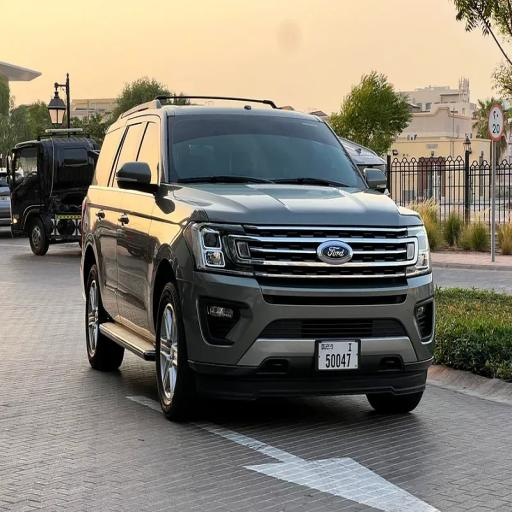license-plates: (318, 340, 358, 370)
